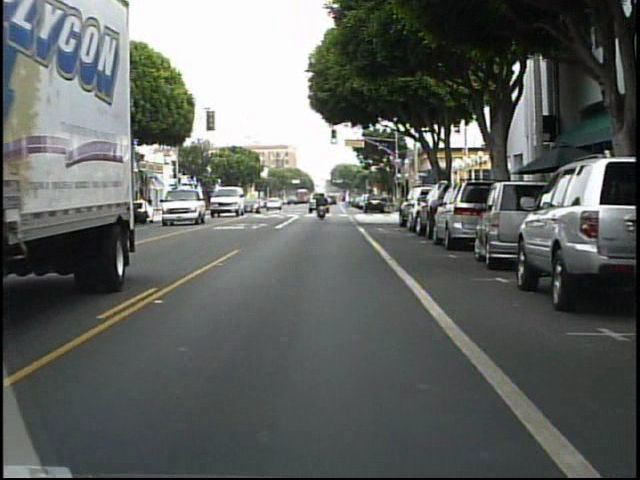person: (315, 191, 330, 220)
